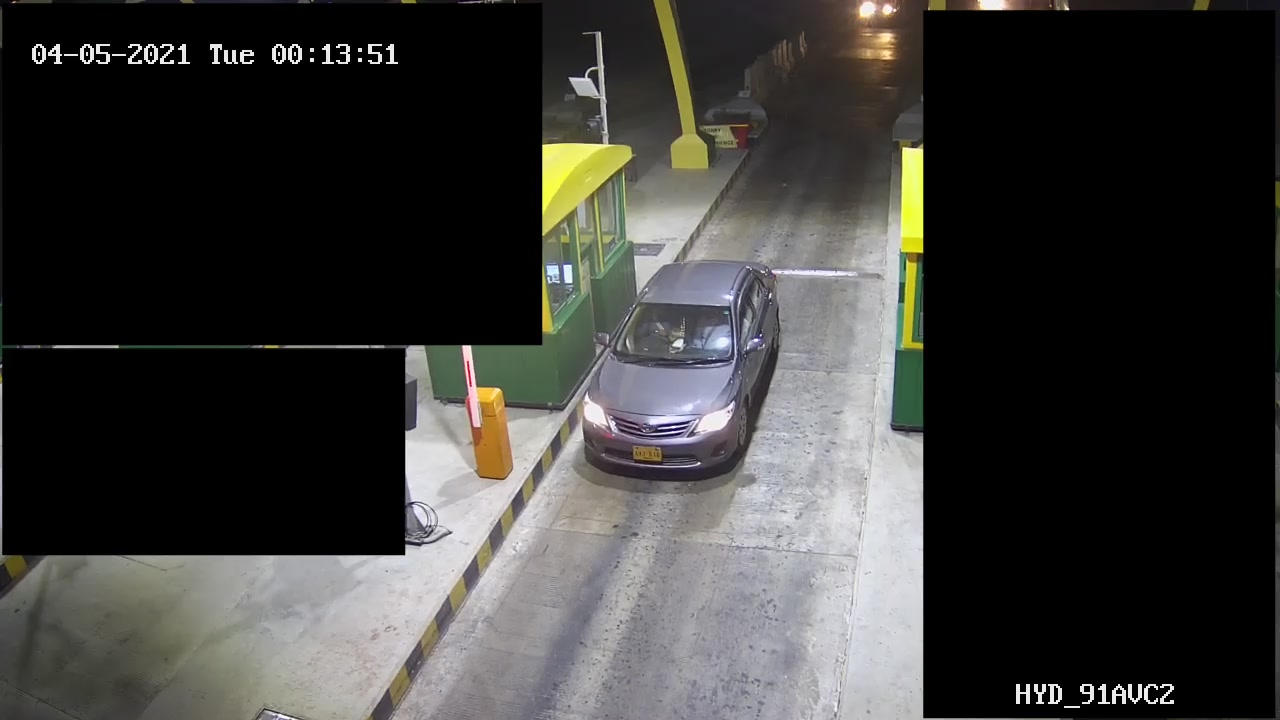F1: (579, 246, 789, 485)
